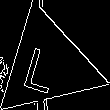L_N: (26, 36, 70, 93)
